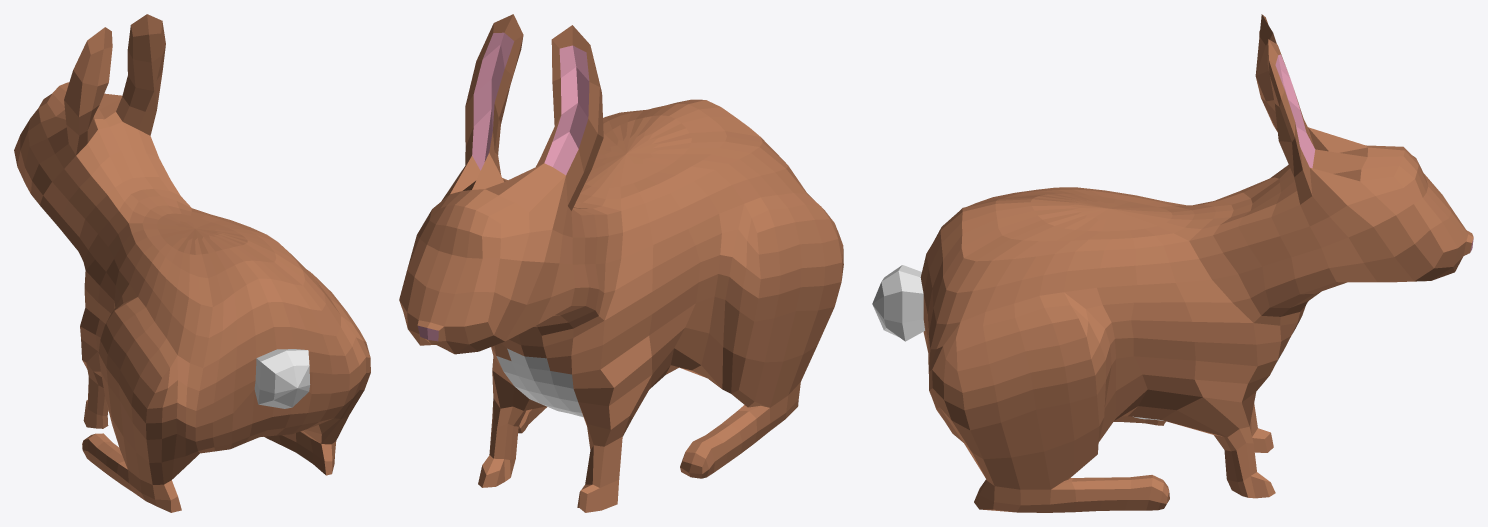
The model's file is bunny.FBX.
3 views of the same model, side by side, from view 1: azimuth 30°, elevation 25°; view 2: azimuth 150°, elevation 25°; view 3: azimuth 270°, elevation 25° (orthographic). The views are drawn at different scales.
Visible parts, largest first — view 1: Sphere001; view 2: Sphere001; view 3: Sphere001.
Boxes of the visible parts, x1,y1,x2,y2 form: Sphere001: (14, 14, 370, 512); Sphere001: (399, 14, 843, 512); Sphere001: (872, 14, 1473, 512).
Size of the model in its own units: 10.93 by 18.18 by 22.29.
